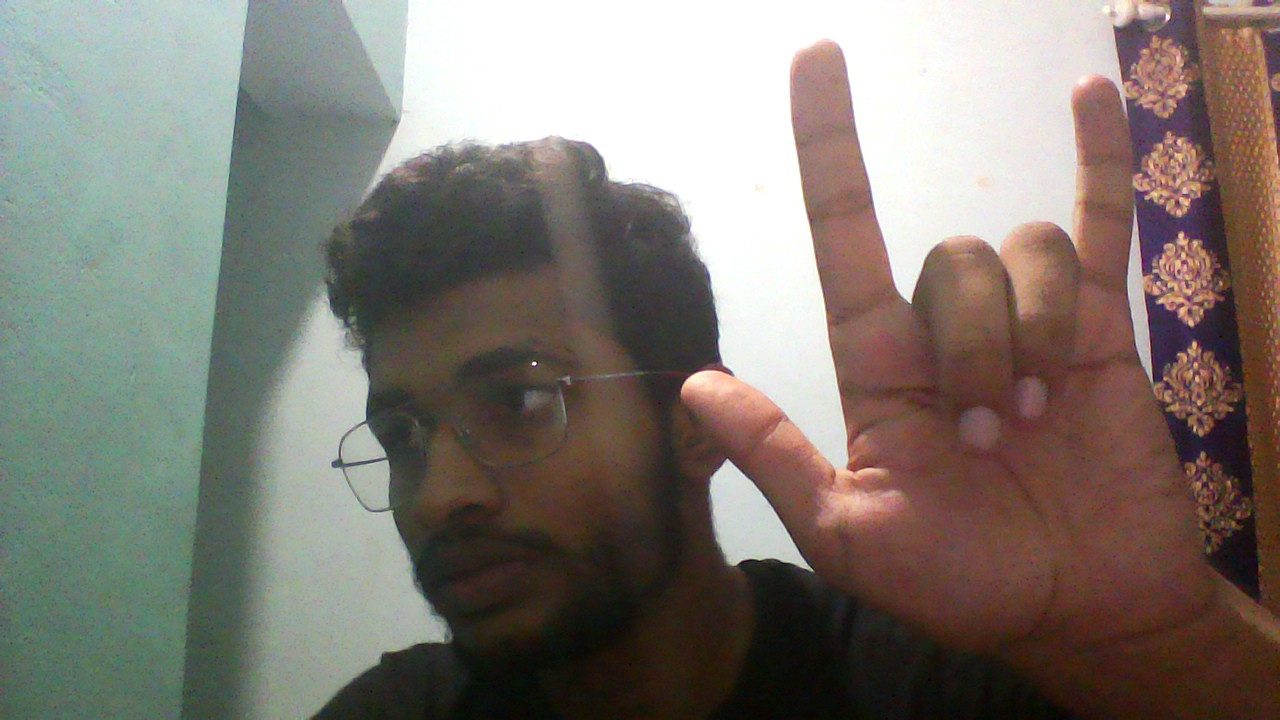I love you: (668, 31, 1204, 667)
